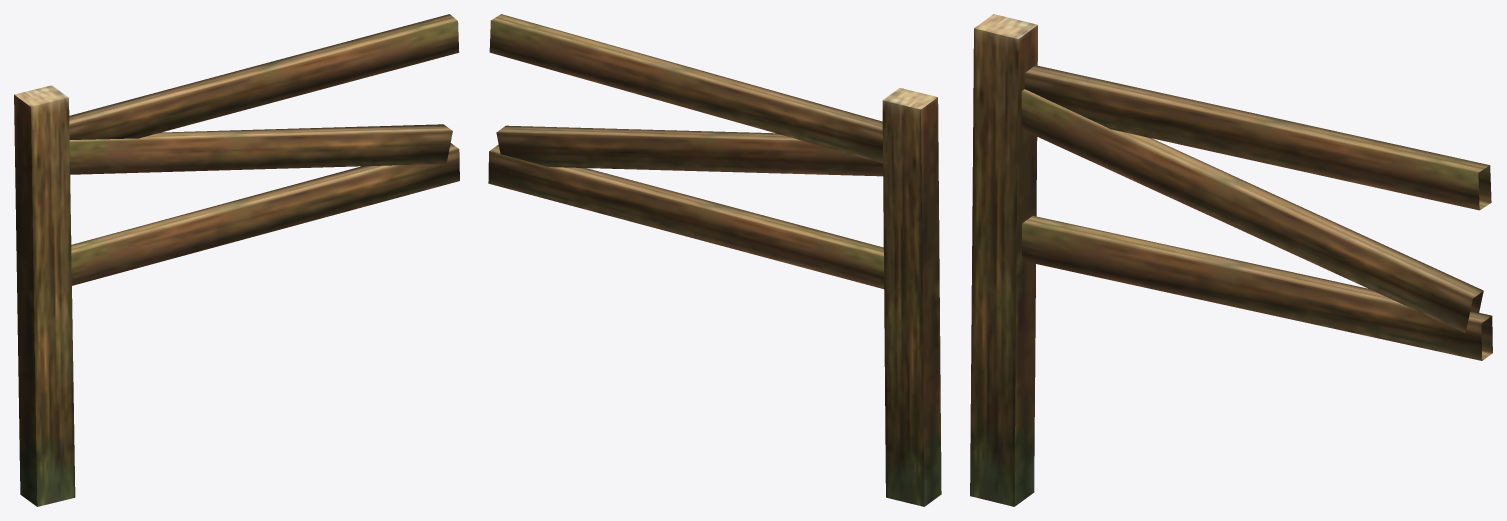
The model's file is general_obj_fence05.fbx.
3 renders of one model, left to right at view 1: azimuth 30°, elevation 25°; view 2: azimuth 150°, elevation 25°; view 3: azimuth 330°, elevation 25°, orthographic. The views are drawn at different scales.
Visible parts, largest first — view 1: Sphere01; view 2: Sphere01; view 3: Sphere01.
Boxes of the visible parts, box(x1,y1,x2,y2) form: Sphere01: box(14, 14, 459, 506); Sphere01: box(488, 14, 941, 506); Sphere01: box(970, 14, 1492, 506).
Size of the model in its own units: 2.44 by 2.14 by 0.213.
